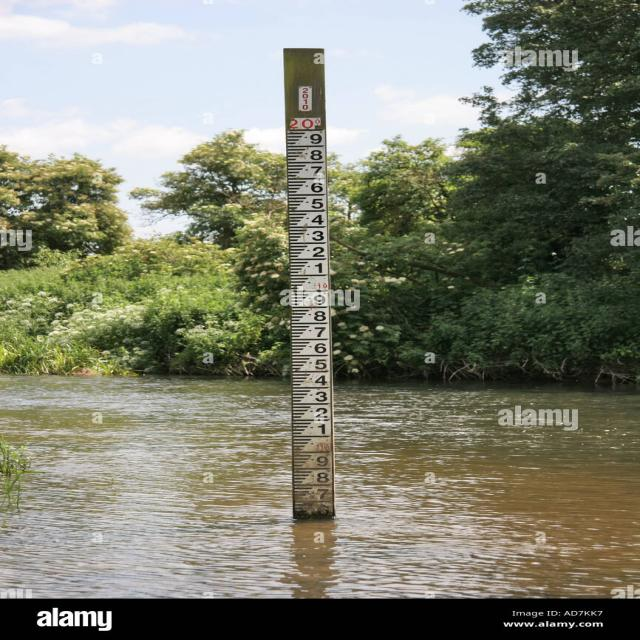ruler: (278, 117, 343, 529)
value: (307, 488, 334, 503), (308, 470, 334, 484), (305, 244, 329, 258), (288, 118, 316, 130), (308, 341, 330, 356), (307, 374, 330, 388), (309, 455, 333, 468), (307, 390, 331, 403), (306, 325, 330, 338), (308, 423, 332, 436), (306, 212, 328, 226), (306, 230, 328, 244), (308, 407, 331, 420), (308, 310, 329, 324), (308, 263, 329, 277), (313, 441, 337, 453), (306, 358, 330, 370), (306, 198, 326, 211), (309, 180, 327, 194), (306, 132, 324, 146), (307, 148, 324, 162), (311, 292, 329, 305), (306, 166, 324, 179), (313, 280, 329, 291)
